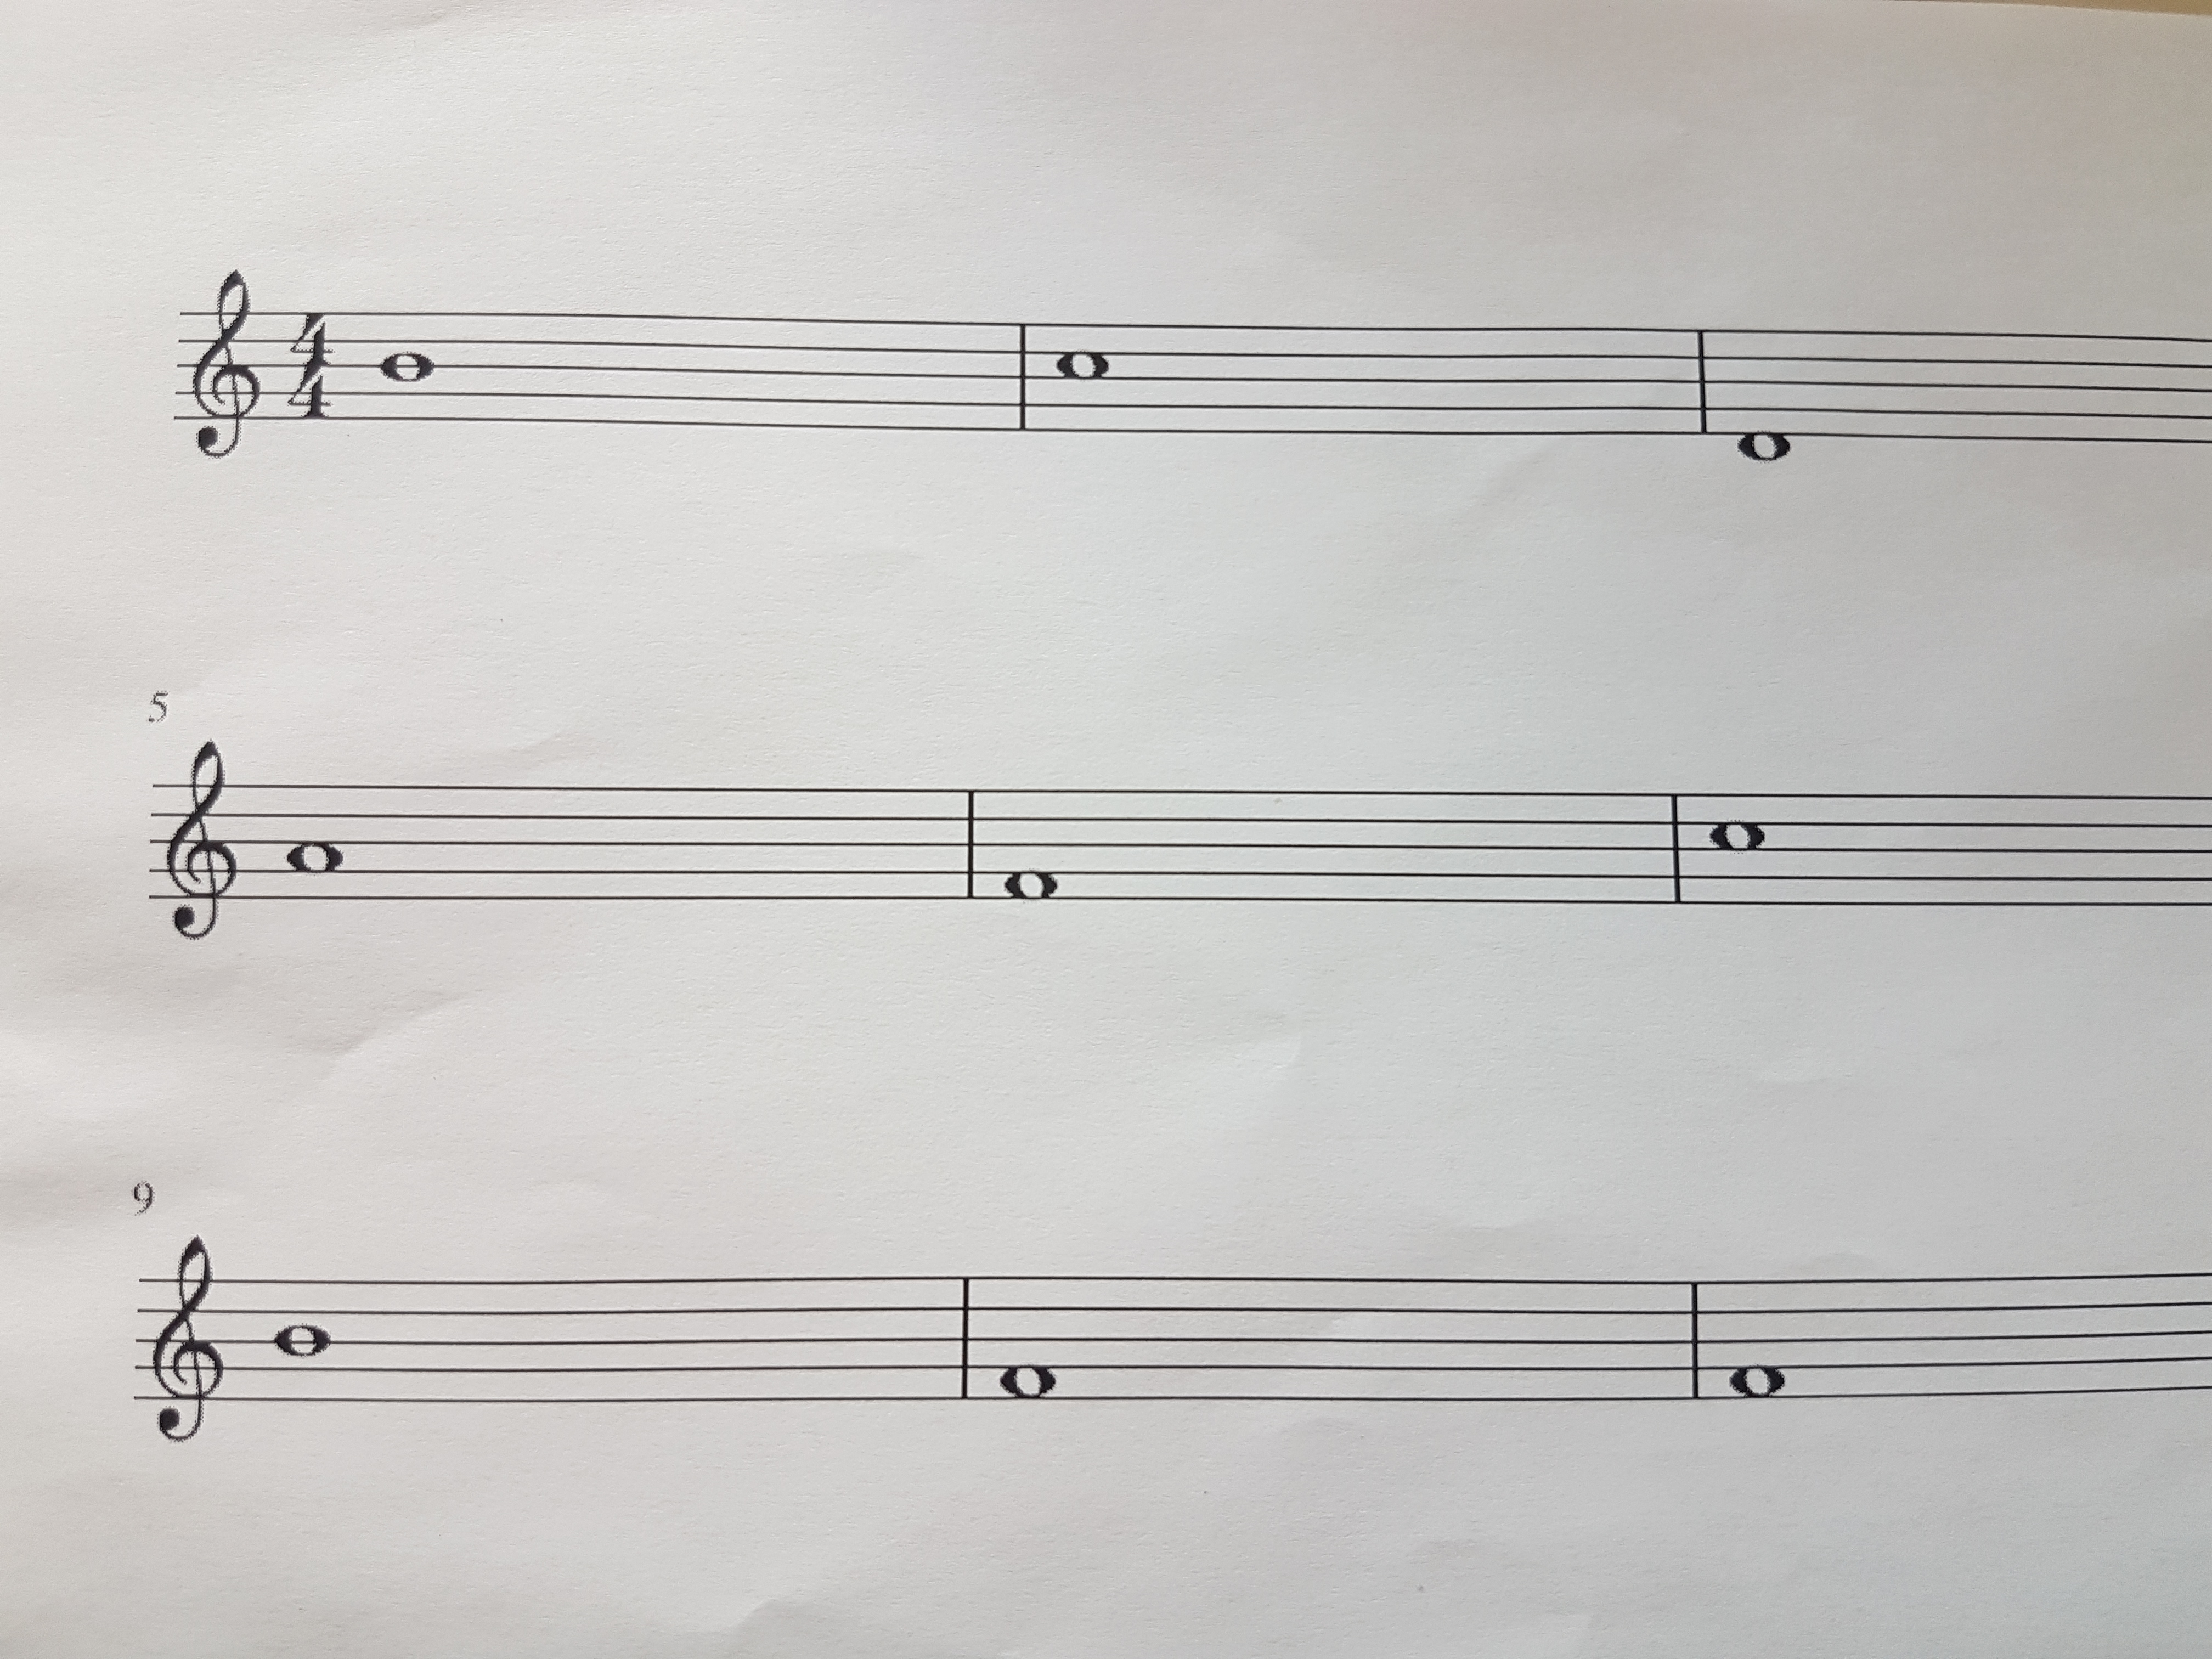key: (176, 256, 266, 479), (143, 1229, 232, 1450), (158, 734, 242, 953)
pipe: (1677, 1265, 1712, 1420), (949, 1256, 981, 1420), (1660, 779, 1693, 922), (954, 767, 984, 915), (1007, 308, 1036, 453), (1688, 314, 1719, 446)
semibreve_a: (279, 756, 348, 929)
semibreve_c: (1703, 756, 1771, 932), (1050, 289, 1109, 453)
semibreve_d: (1730, 307, 1799, 493)
semibreve_f: (993, 1244, 1061, 1425), (1001, 751, 1068, 934), (1730, 1241, 1789, 1432)
semibreve_h: (263, 1260, 336, 1436), (369, 284, 441, 448)
